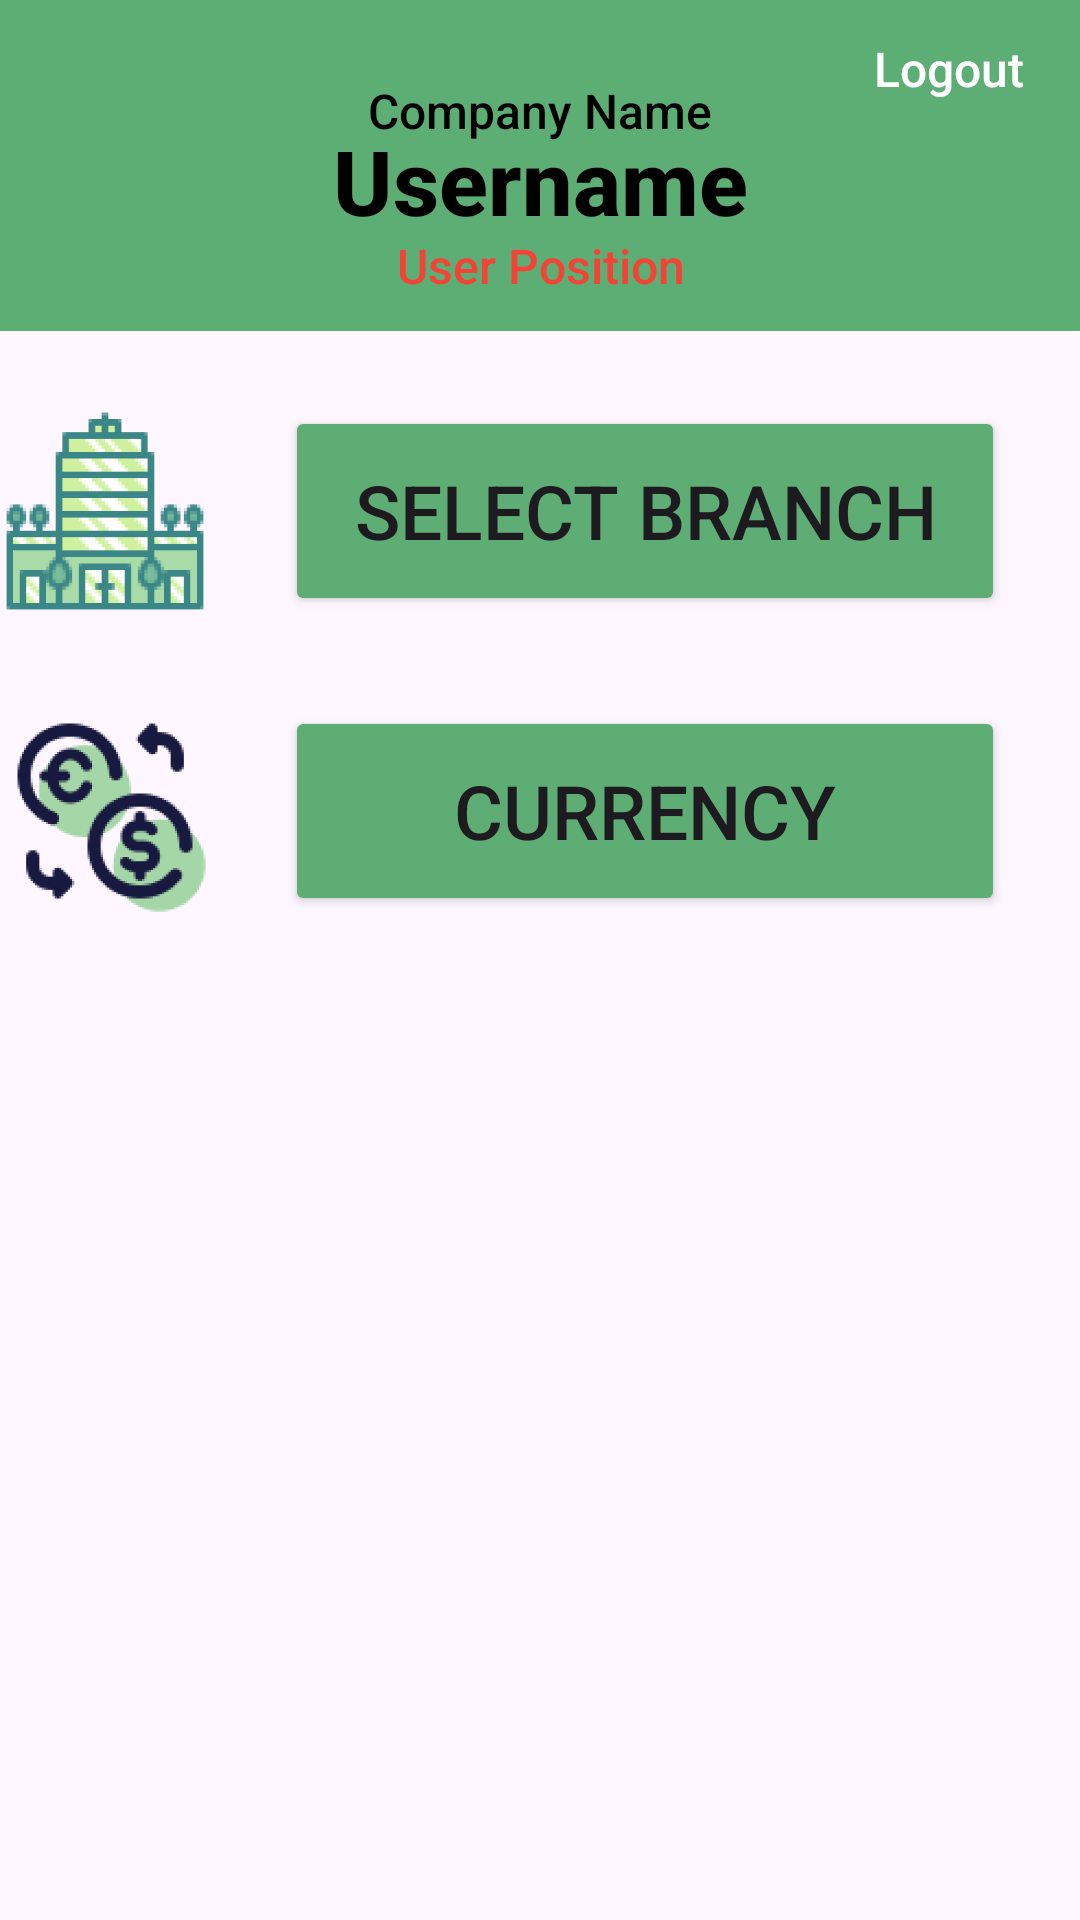

Icon click points for this 1080w x 1920h phone screenshot, format (x=x, y=y):
company: (x=105, y=511)
